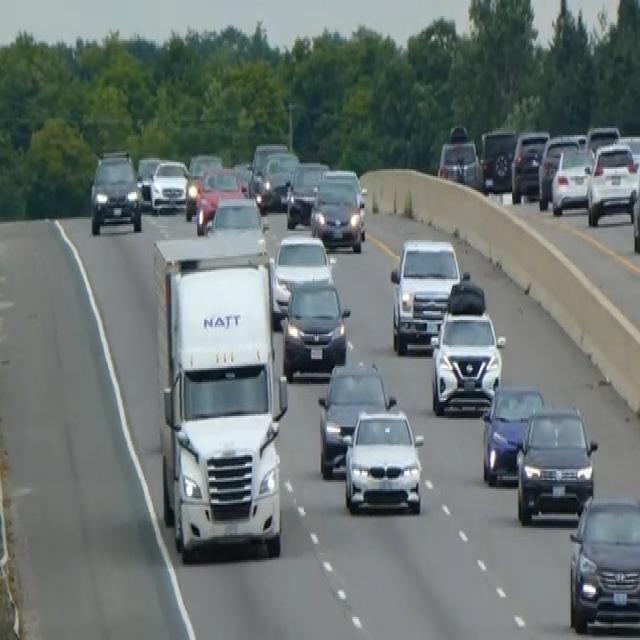car: (429, 279, 505, 416), (567, 492, 639, 633), (515, 402, 597, 524), (317, 358, 393, 478), (342, 404, 424, 514), (389, 234, 462, 354), (281, 276, 351, 380), (481, 382, 544, 486), (271, 231, 334, 320), (88, 146, 142, 234), (585, 138, 638, 225), (310, 172, 364, 252), (194, 163, 247, 233), (537, 132, 583, 208), (207, 192, 268, 247), (550, 144, 594, 215), (285, 158, 329, 228), (510, 128, 549, 203), (437, 122, 481, 188), (255, 149, 299, 210), (184, 151, 223, 217), (479, 126, 517, 192), (149, 156, 189, 214), (249, 140, 288, 196), (135, 153, 161, 206), (585, 122, 620, 154), (631, 153, 639, 254)
lorry: (150, 229, 289, 562)
